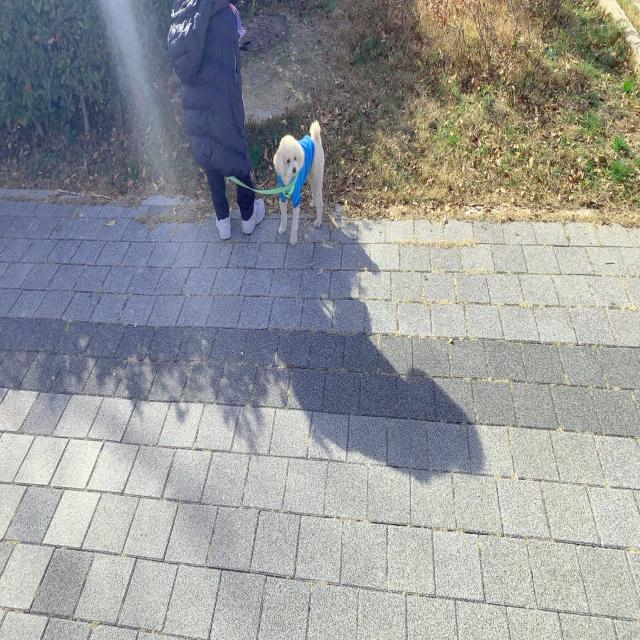Leashed_Dog: (231, 113, 326, 248)
